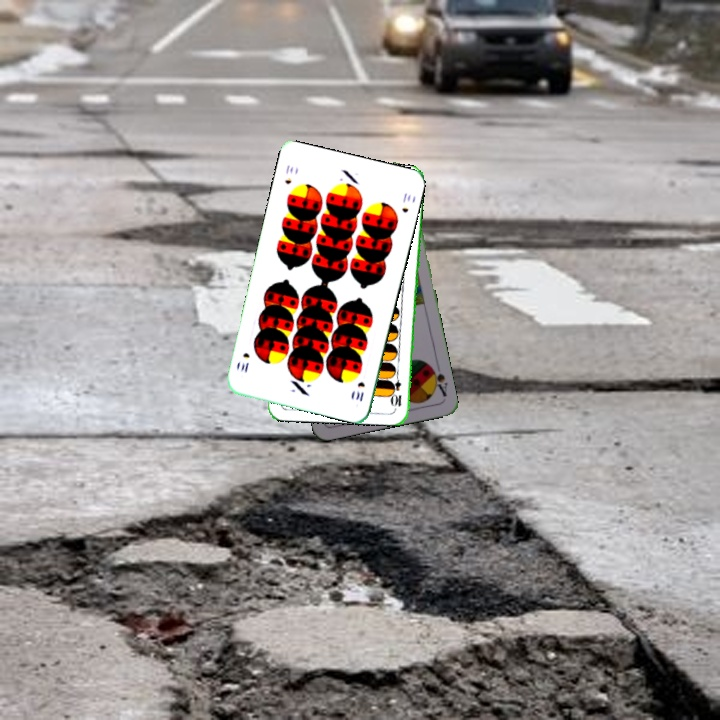E10: (390, 368, 404, 409)
S10: (352, 377, 367, 404), (281, 161, 296, 187)
SA: (426, 361, 450, 399)
